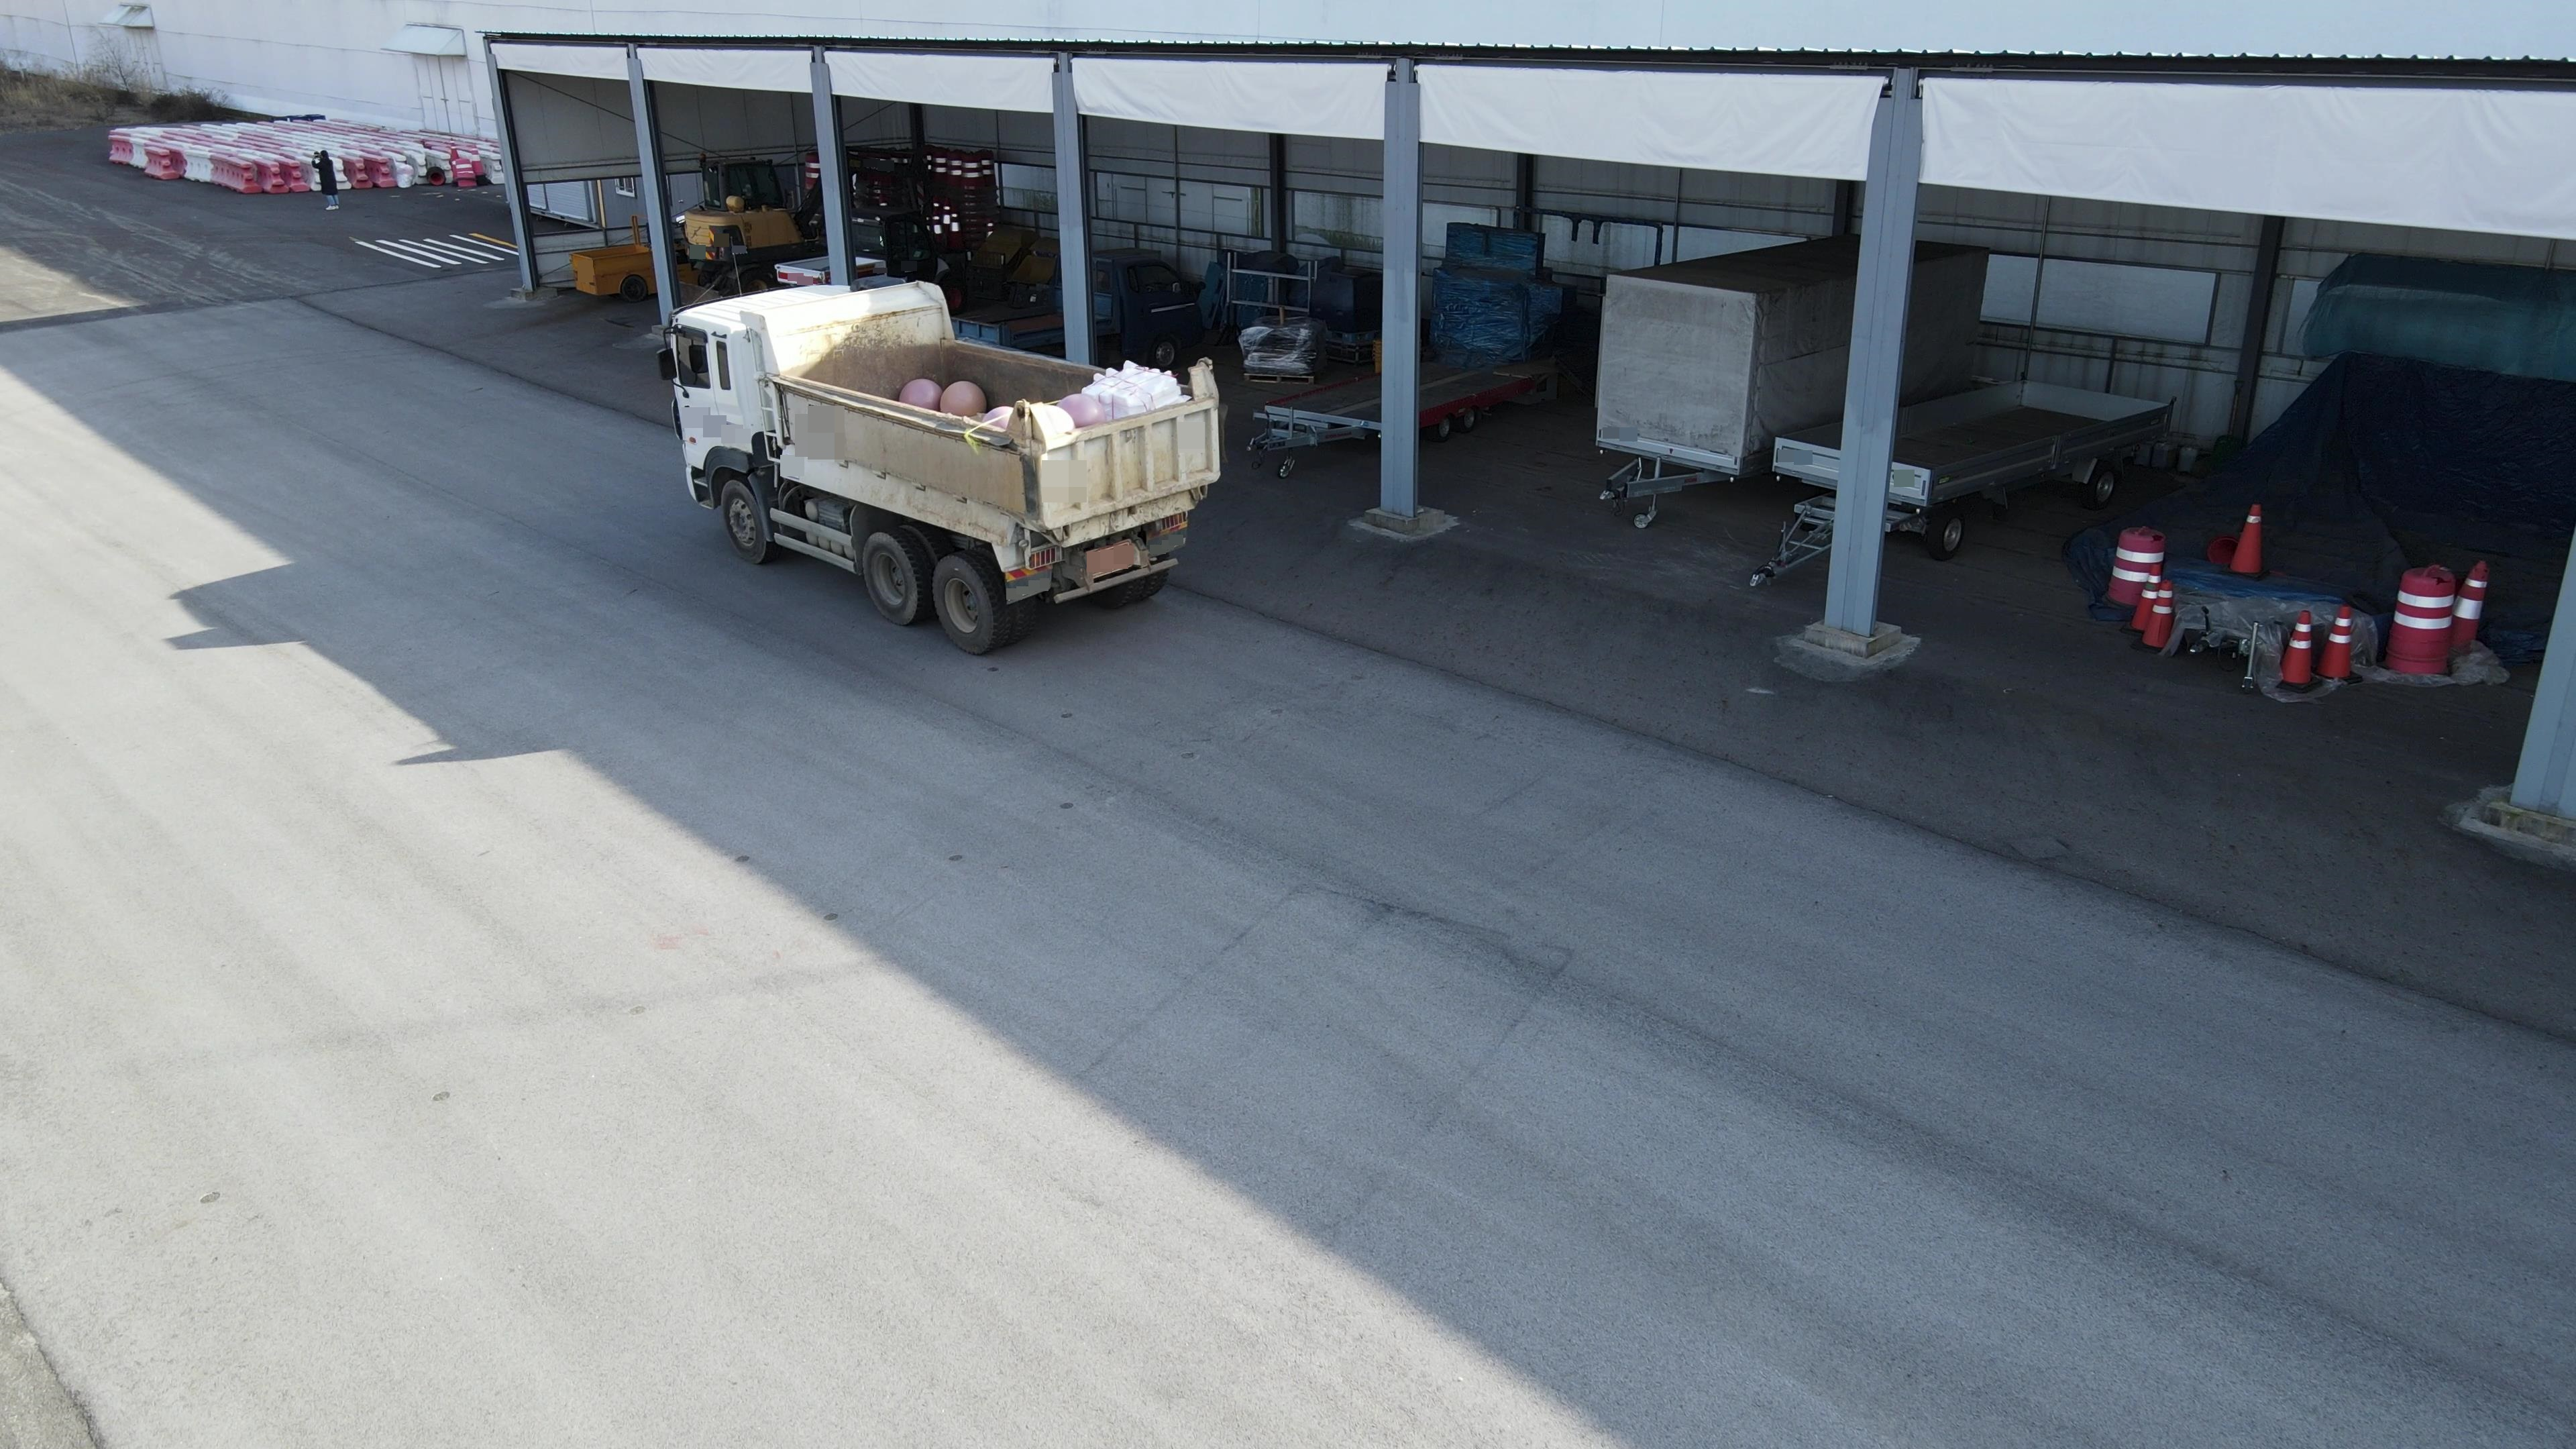불법차량: (657, 274, 1228, 655)
